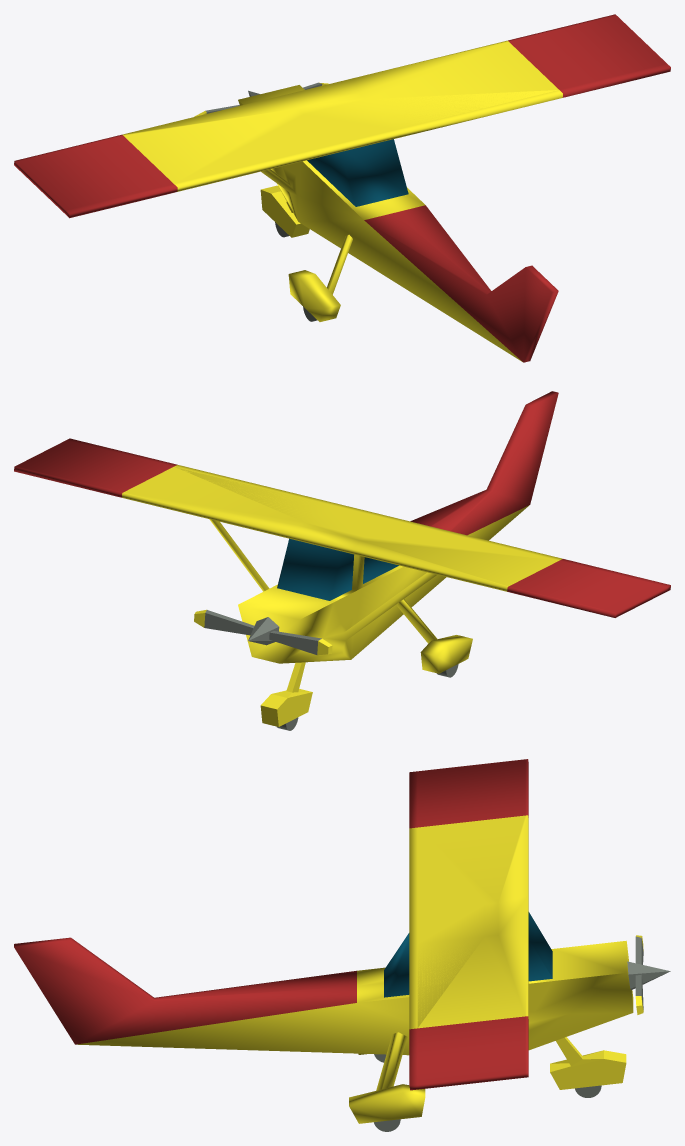
3 views of the same model, one above another, from view 1: azimuth 30°, elevation 25°; view 2: azimuth 150°, elevation 25°; view 3: azimuth 270°, elevation 25° (orthographic). The views are drawn at different scales.
Parts seen in each view (by area): view 1: Korpus, Cube_3, Cube_2; view 2: Korpus, Rotor, Cube_3, Cube_2; view 3: Korpus, Cube_1, Cube_2, Rotor.
Part boxes in pixels (x1,y1,x2,y2): Korpus: (14,14,670,362); Cube_3: (288,234,352,321); Cube_2: (260,185,309,237); Korpus: (14,391,670,663); Rotor: (194,609,332,655); Cube_3: (397,599,472,673); Cube_2: (260,662,312,726); Korpus: (14,759,633,1090); Cube_1: (349,1032,425,1123); Cube_2: (550,1037,626,1089); Rotor: (627,935,670,1014).
Bounding box in the file's own units: 137 × 36.47 × 121.
